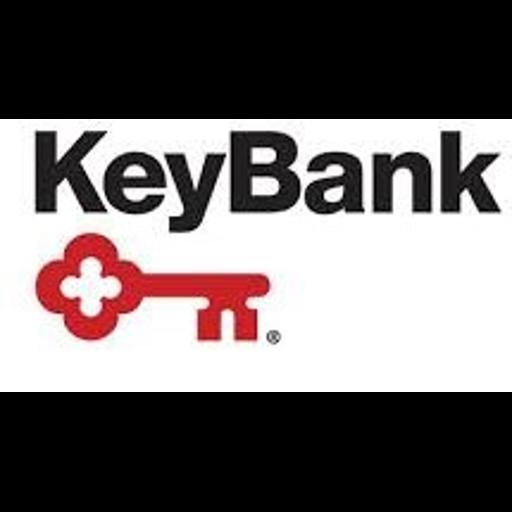Key Bank: (0, 119, 512, 392)
